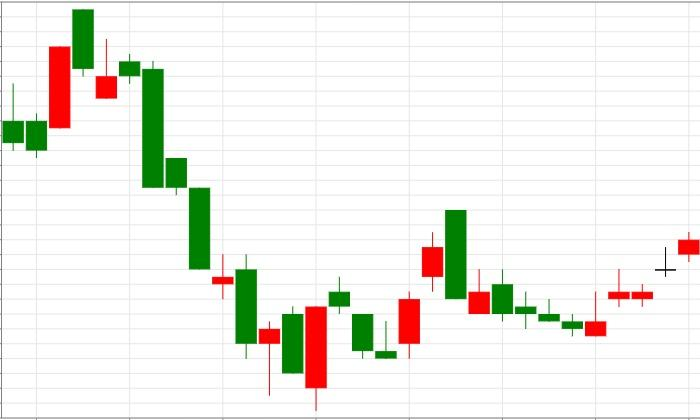bearish_engulfing_fall: (375, 209, 467, 360)
bullish_engulfing_rise: (72, 9, 328, 412)
inverse_hammer_rise: (445, 210, 608, 337)
